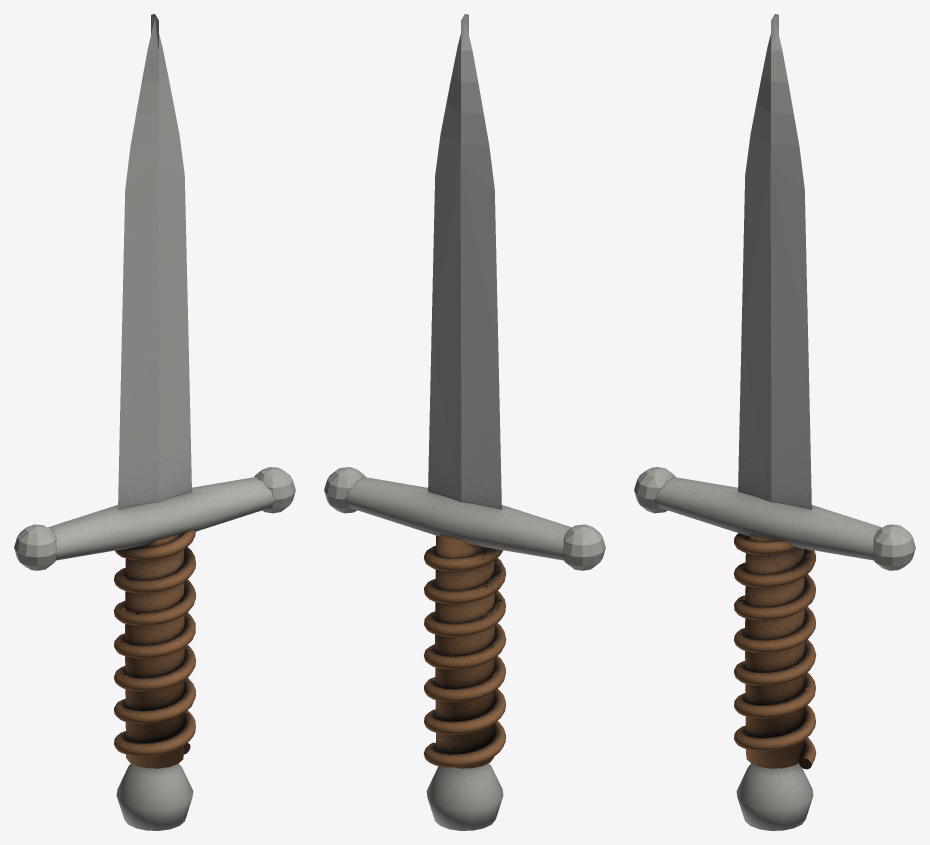
The model's file is arma_adaga_comum.glb.
3 renders of one model, left to right at view 1: azimuth 30°, elevation 25°; view 2: azimuth 150°, elevation 25°; view 3: azimuth 330°, elevation 25°, orthographic.
Parts seen in each view (by area): view 1: arma_adaga_comum; view 2: arma_adaga_comum; view 3: arma_adaga_comum.
Part boxes in pixels (x1,y1,x2,y2): arma_adaga_comum: (14, 14, 295, 830); arma_adaga_comum: (324, 14, 605, 830); arma_adaga_comum: (634, 14, 915, 830).
Size of the model in its own units: 0.164 by 0.461 by 0.0425.
1 material, 1 textured.
